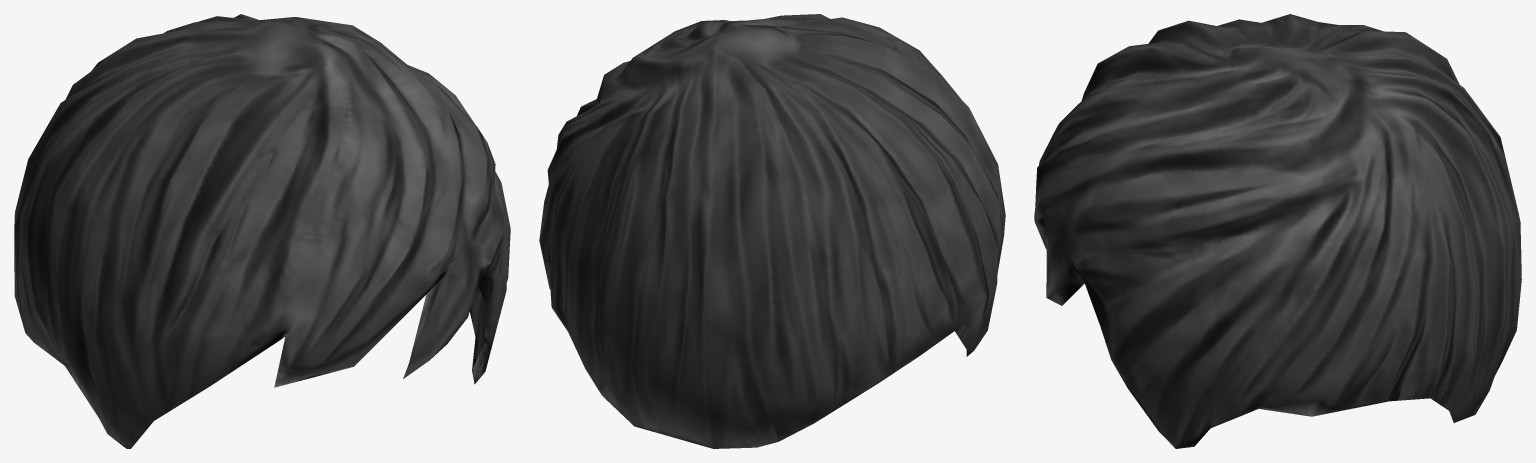
Rendered from AF_M_hair_26.fbx.
3 renders of one model, left to right at view 1: azimuth 30°, elevation 25°; view 2: azimuth 150°, elevation 25°; view 3: azimuth 270°, elevation 25°, orthographic. The views are drawn at different scales.
Parts seen in each view (by area): view 1: AF_M_hair_26; view 2: AF_M_hair_26; view 3: AF_M_hair_26.
Part boxes in pixels (<box>): AF_M_hair_26: <box>14,14,510,448</box>; AF_M_hair_26: <box>539,14,1005,448</box>; AF_M_hair_26: <box>1034,14,1521,448</box>.
Bounding box in the file's own units: 716 × 575 × 713.
